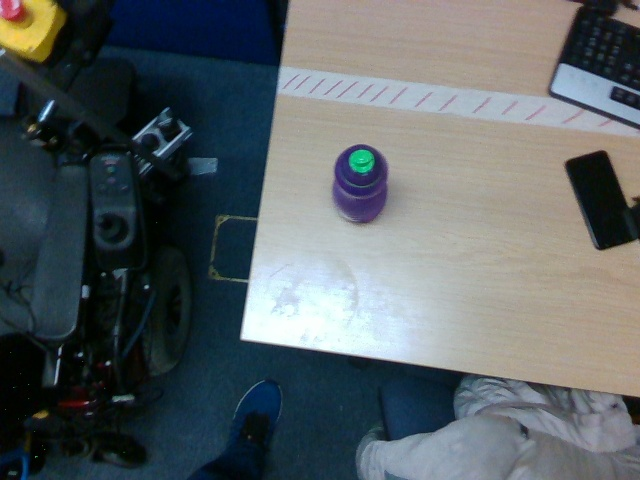book: (332, 145, 388, 226)
